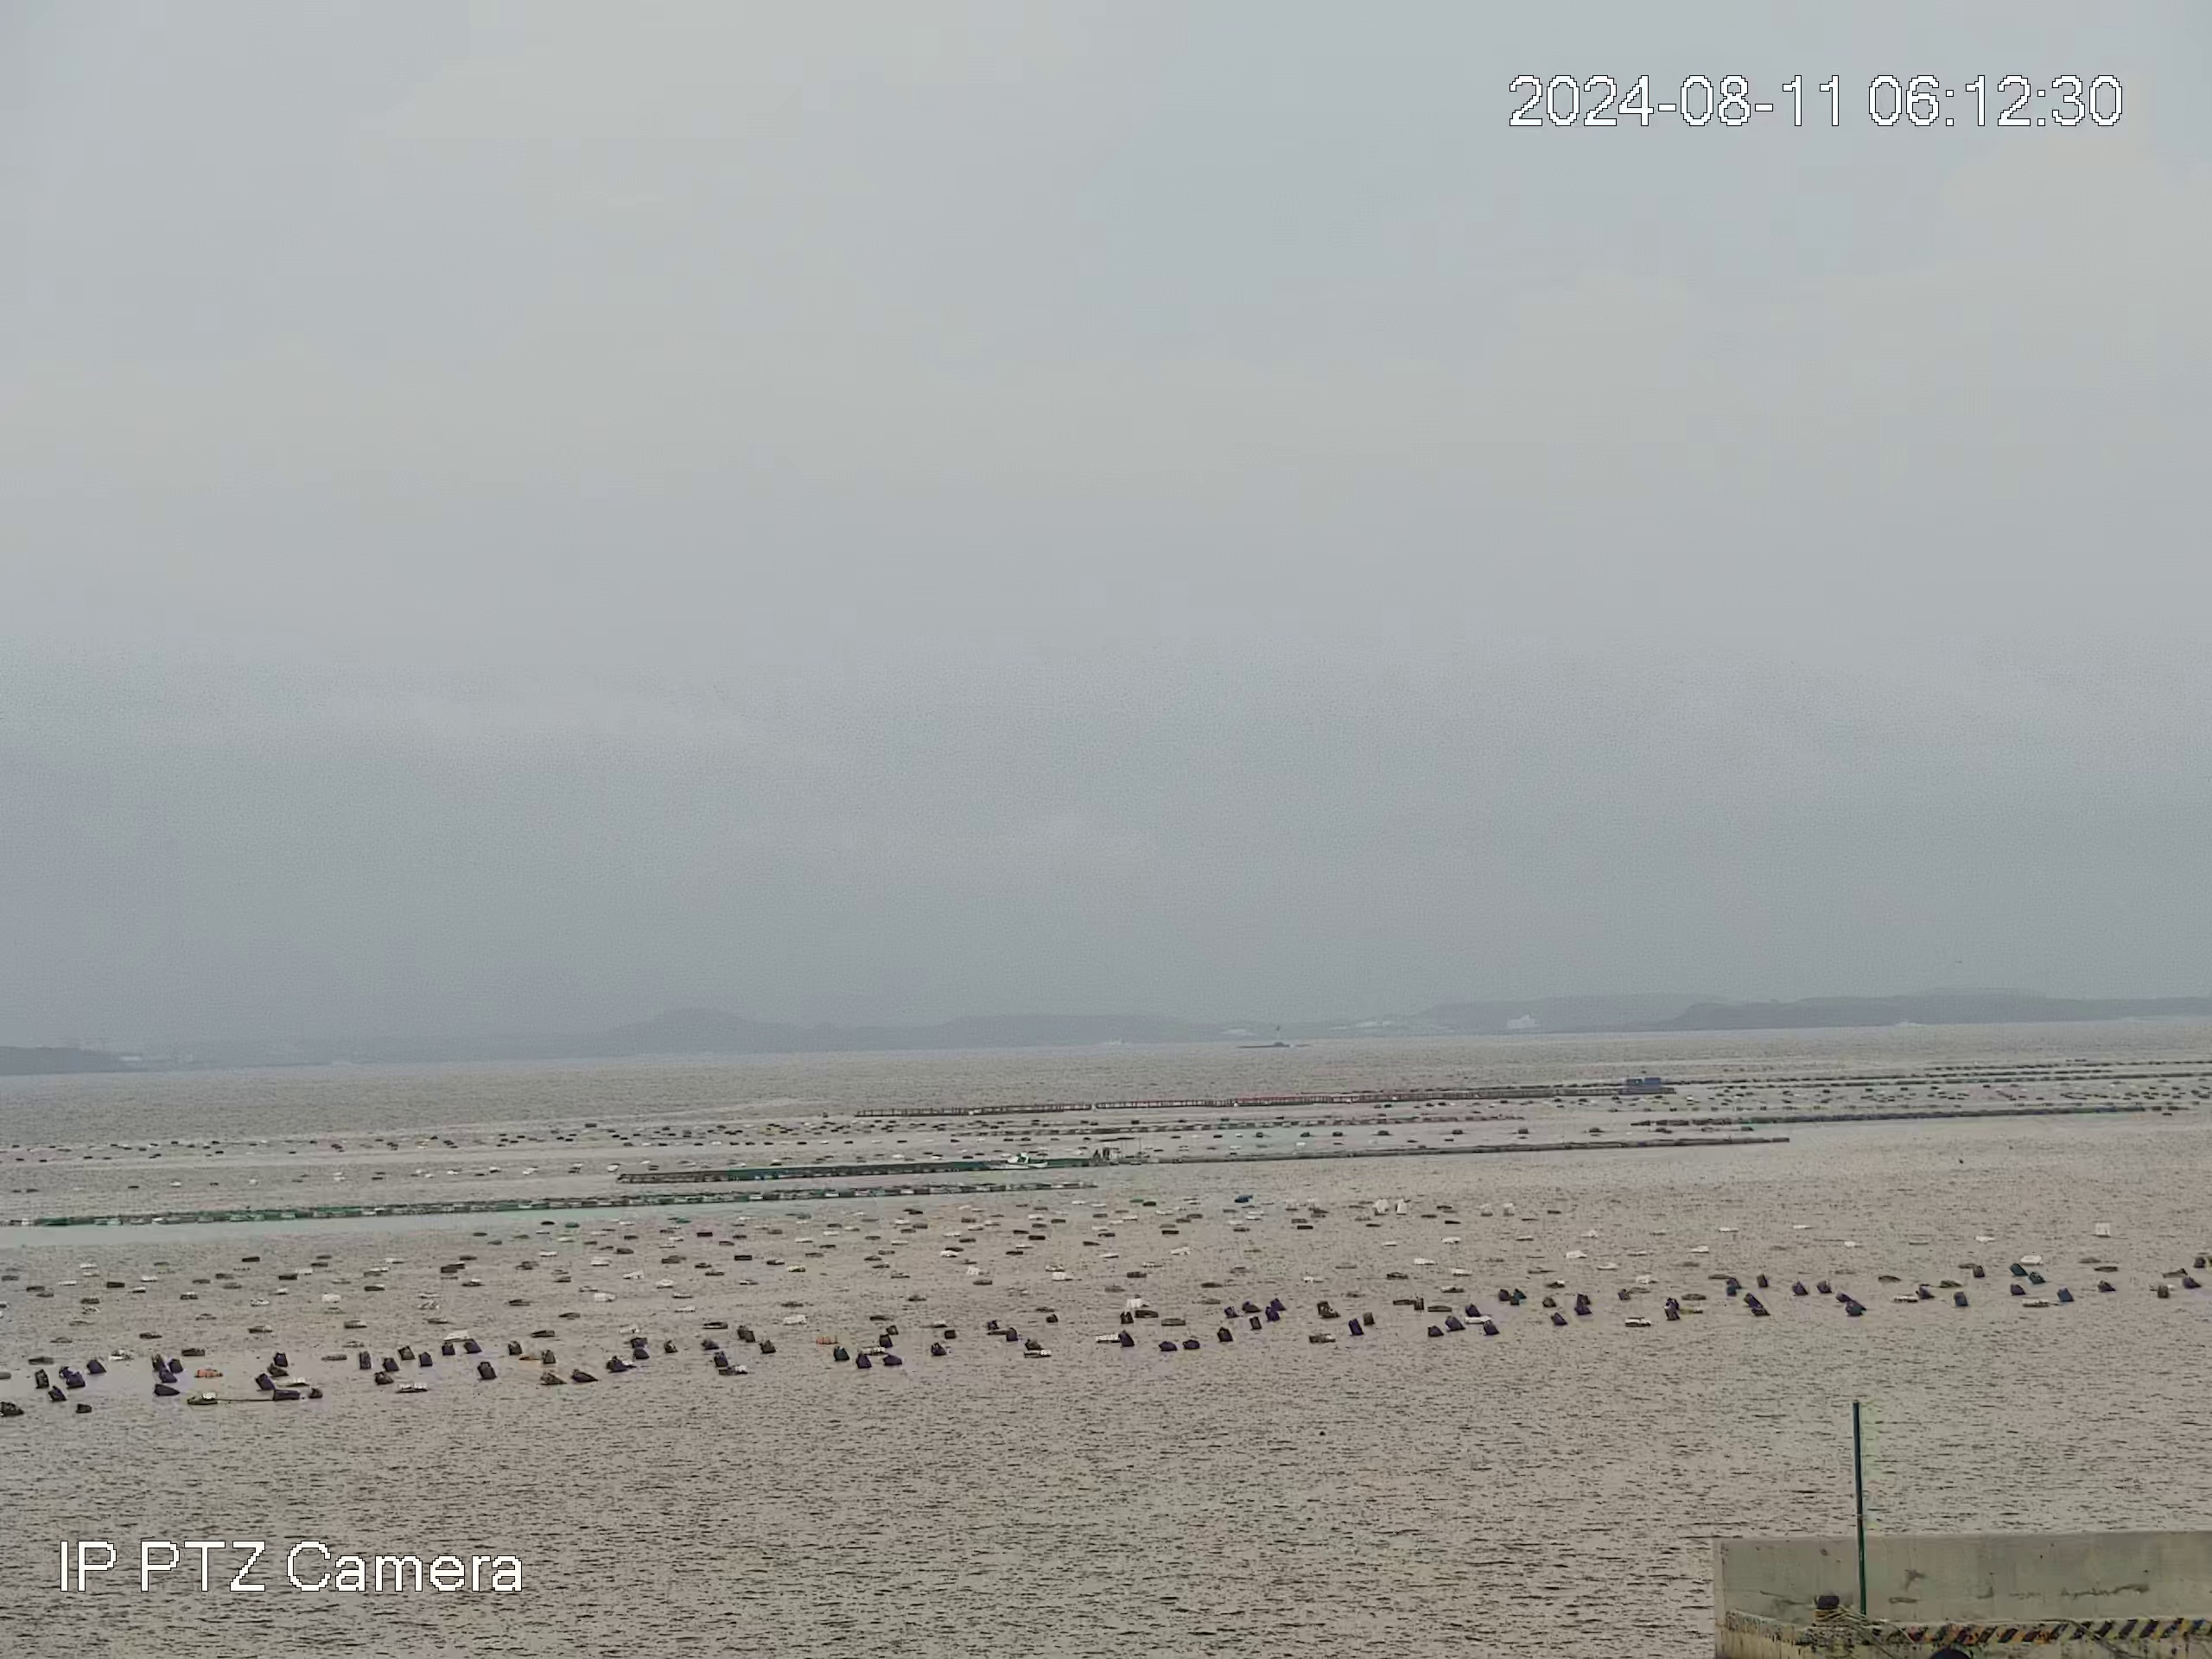boat: (979, 1148, 1050, 1171)
